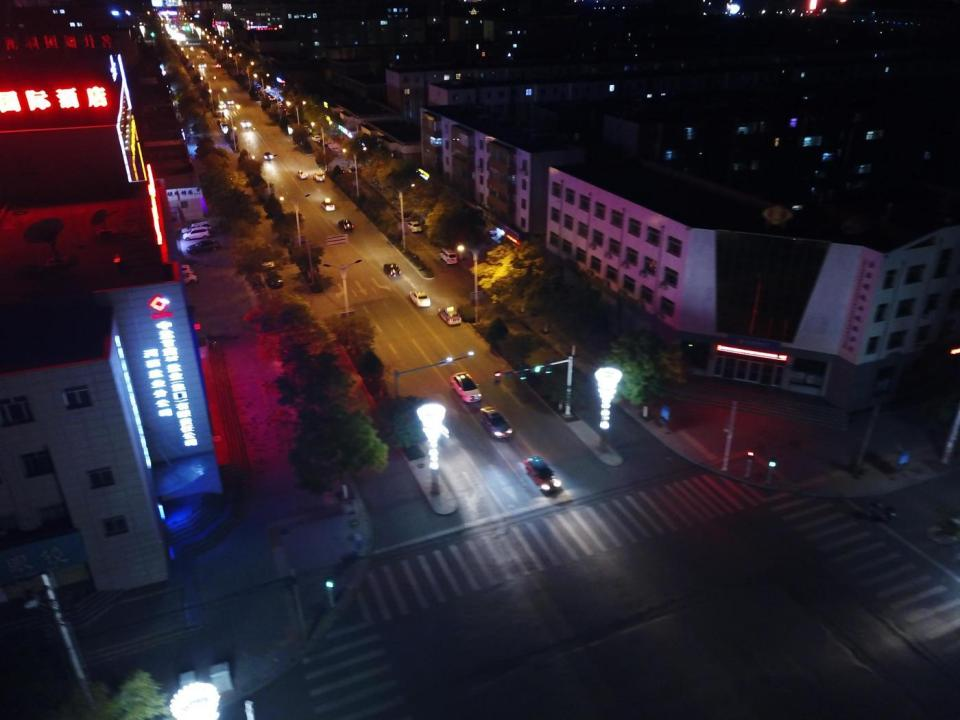bus: (218, 119, 228, 130)
car: (524, 456, 561, 494), (479, 406, 513, 439), (450, 371, 481, 402), (927, 517, 959, 545), (438, 306, 462, 326), (181, 220, 211, 235), (186, 240, 219, 253), (409, 290, 431, 308), (264, 270, 283, 289), (183, 228, 209, 241), (258, 249, 274, 268), (383, 262, 401, 278), (171, 273, 197, 284), (170, 264, 192, 274), (338, 219, 354, 232), (408, 220, 422, 233), (394, 210, 410, 221), (322, 197, 334, 210), (313, 172, 325, 182), (241, 118, 252, 128), (391, 198, 404, 206), (297, 169, 307, 179), (347, 165, 358, 174), (263, 152, 273, 161), (240, 70, 250, 76), (218, 102, 226, 109), (303, 125, 310, 133), (312, 135, 321, 141), (317, 140, 324, 147), (252, 80, 260, 86), (226, 99, 234, 104), (276, 97, 284, 102), (279, 103, 285, 109), (321, 144, 328, 149), (215, 63, 221, 68), (284, 110, 290, 115), (183, 26, 190, 30), (200, 49, 204, 54), (170, 24, 176, 27), (198, 64, 204, 67), (256, 85, 262, 88), (269, 97, 275, 100), (200, 55, 204, 59)
van: (440, 248, 459, 264)
